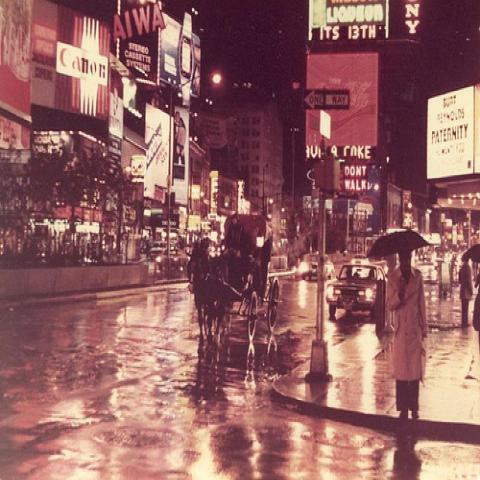car: (327, 264, 389, 321), (298, 252, 336, 281), (156, 250, 188, 272), (150, 241, 164, 257), (350, 254, 371, 264), (421, 251, 438, 263)
